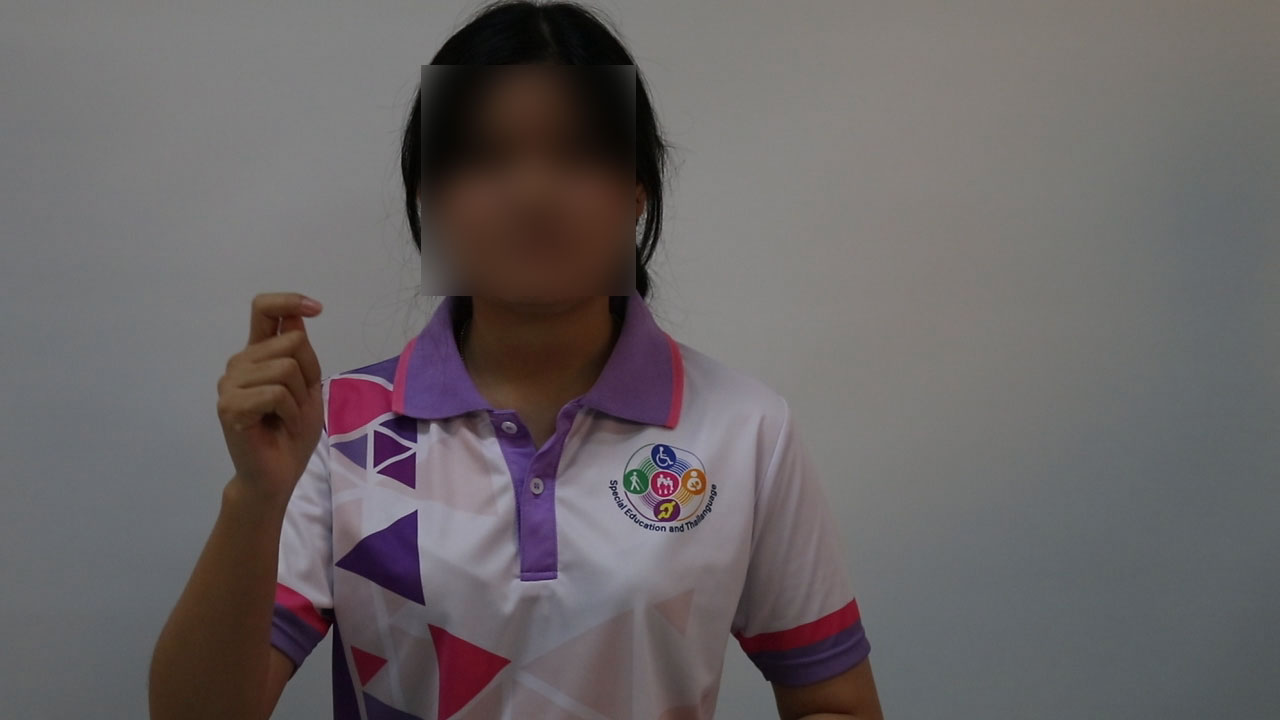or: (207, 284, 350, 503)
